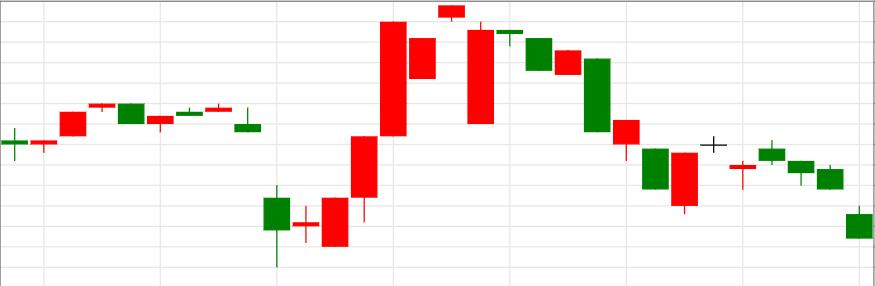three_white_soldiers_rise: (205, 21, 407, 266)
